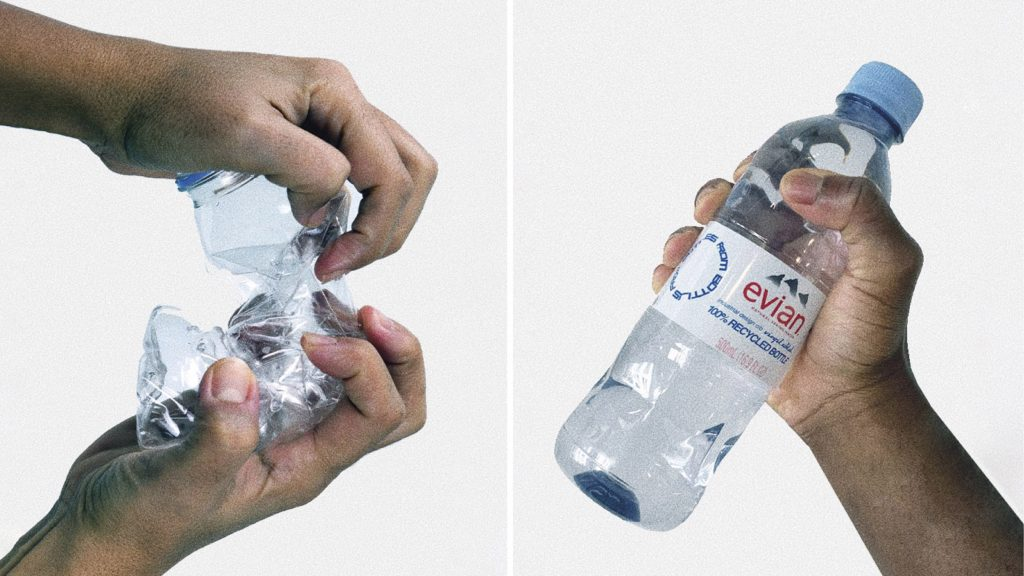plastic_bottle: (56, 6, 469, 533), (543, 20, 960, 534)
